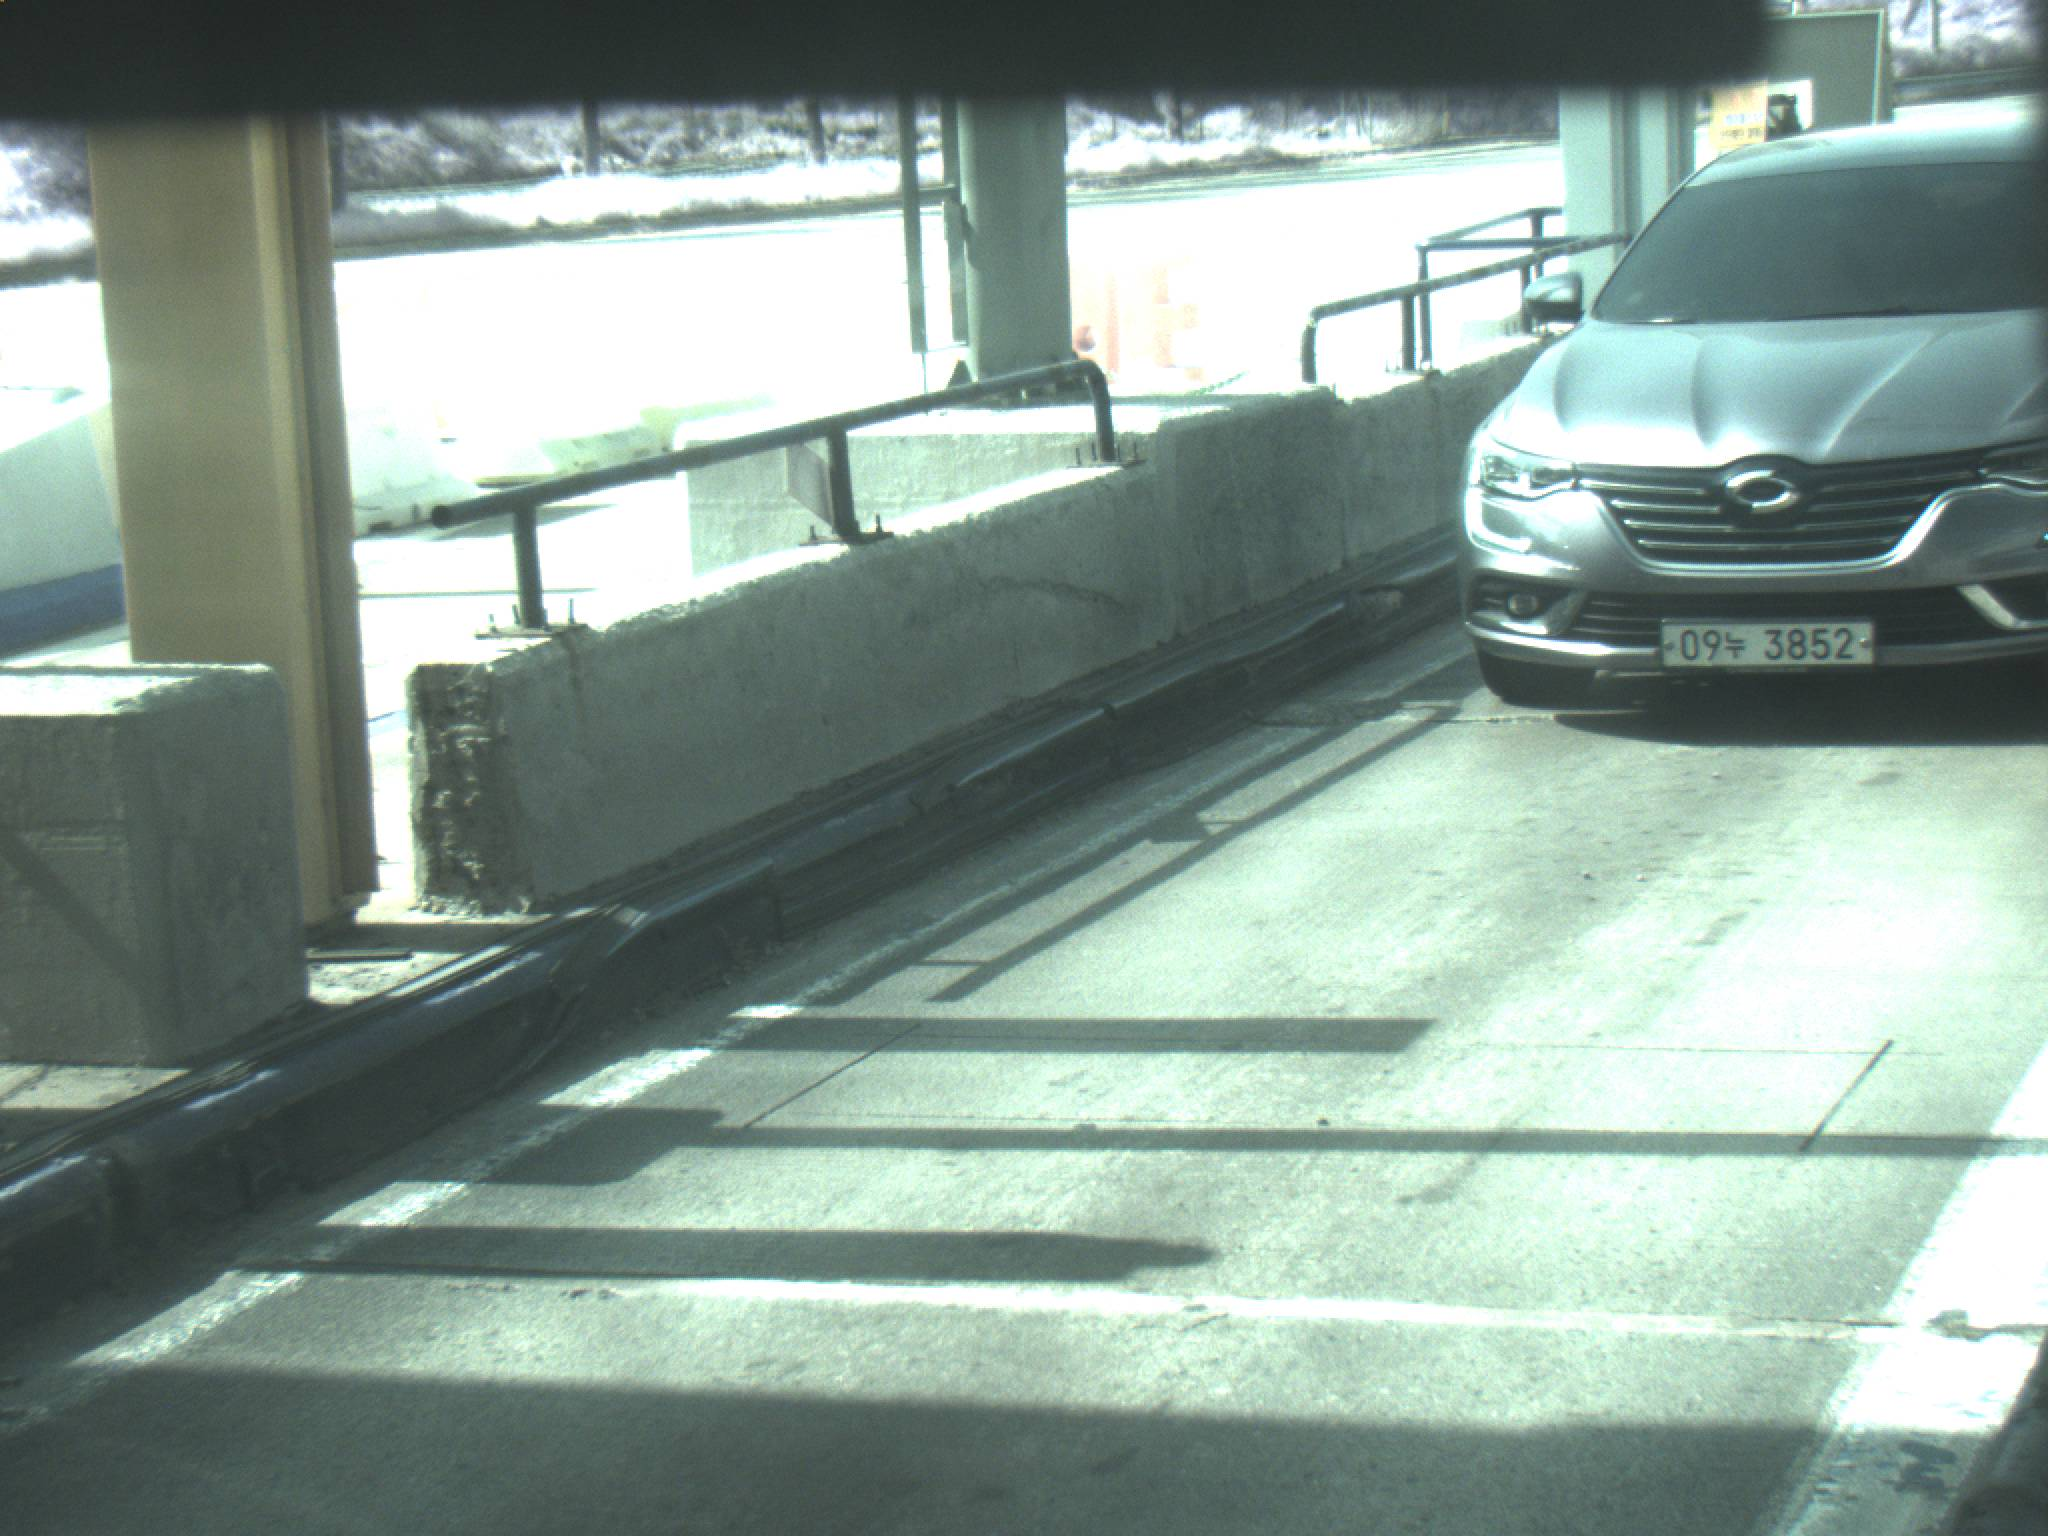car: (1453, 94, 2048, 713)
plate: (1661, 619, 1876, 670)
